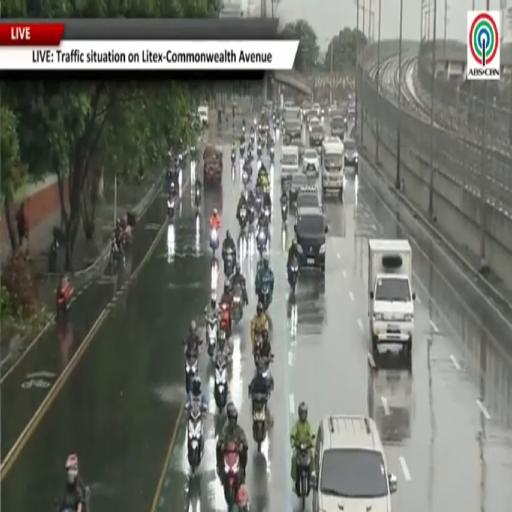car: (313, 415, 397, 511), (294, 206, 327, 273), (289, 172, 308, 203), (296, 186, 320, 209), (344, 139, 359, 173), (283, 118, 302, 143), (303, 149, 319, 175), (331, 116, 347, 139), (309, 124, 324, 147), (197, 105, 209, 125), (308, 117, 320, 131), (328, 102, 338, 115), (312, 103, 321, 117)
motorcycle: (188, 399, 204, 474), (224, 441, 240, 506), (296, 443, 311, 510), (251, 394, 268, 452), (214, 358, 227, 410), (256, 354, 273, 390), (56, 283, 73, 318), (206, 315, 218, 357), (110, 237, 125, 267), (231, 284, 242, 324), (186, 356, 197, 393), (288, 259, 299, 293), (221, 302, 231, 338), (256, 227, 268, 257), (259, 283, 270, 311), (254, 331, 263, 365), (224, 248, 234, 277), (53, 499, 75, 511), (210, 229, 219, 254), (239, 206, 247, 229), (254, 192, 262, 215), (167, 199, 175, 220), (281, 202, 288, 221), (170, 178, 177, 196), (248, 204, 254, 225), (242, 169, 248, 188), (190, 146, 197, 161), (195, 187, 200, 207), (177, 153, 184, 167), (264, 205, 270, 221), (231, 151, 236, 166), (248, 147, 253, 162), (270, 147, 274, 163), (240, 144, 244, 158), (250, 132, 254, 143), (242, 125, 245, 135)
truck: (368, 239, 415, 353), (321, 137, 344, 198), (281, 146, 299, 191)
